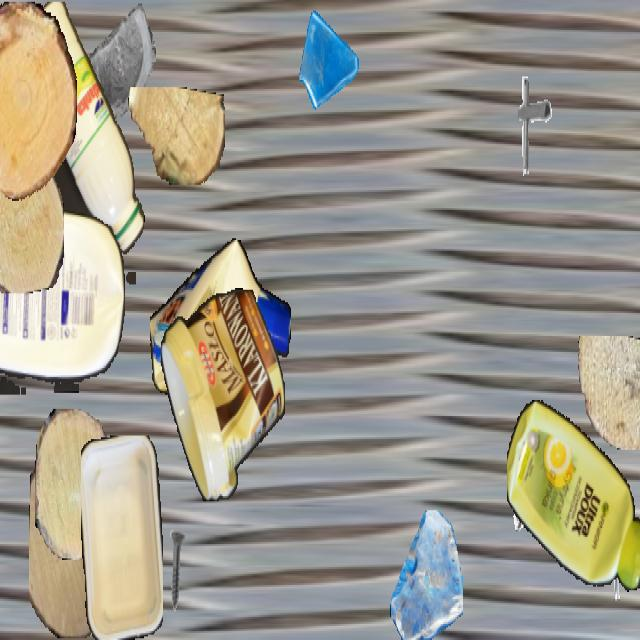glass: (390, 510, 462, 638), (84, 2, 156, 130), (297, 1, 361, 116)
metal: (500, 71, 560, 178), (94, 439, 154, 546), (152, 528, 200, 613), (507, 453, 553, 535), (599, 535, 640, 613)
plastic: (16, 1, 146, 282), (507, 393, 640, 599), (160, 288, 284, 501), (150, 237, 290, 407), (0, 210, 124, 394), (81, 436, 163, 638)
wood: (29, 439, 117, 638), (0, 2, 76, 201), (35, 409, 115, 558), (127, 87, 225, 183), (0, 150, 64, 292), (575, 336, 640, 450), (0, 2, 14, 162)
